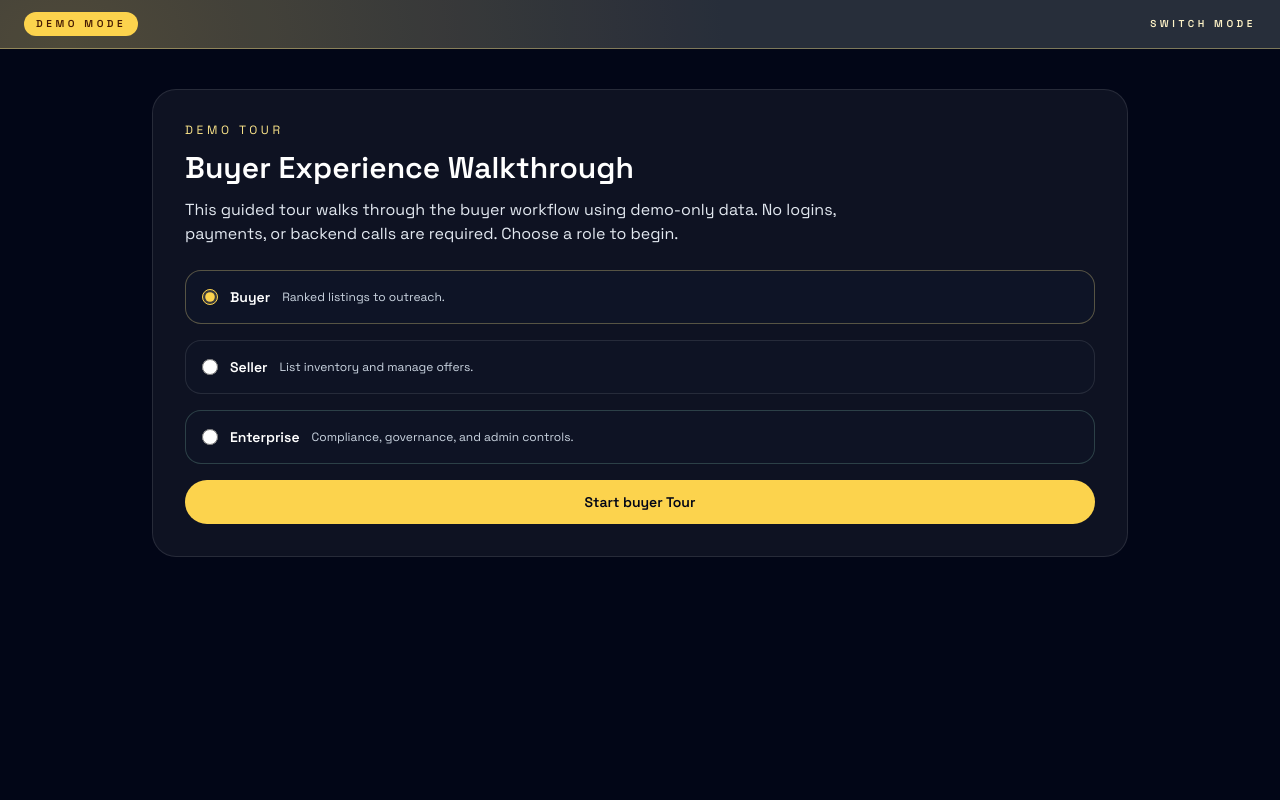
Test case: Demo experience › renders seller tour in read-only mode when demo runtime is enabled
Click the radio button labelled "Seller": (210, 367) [202, 359, 218, 375]
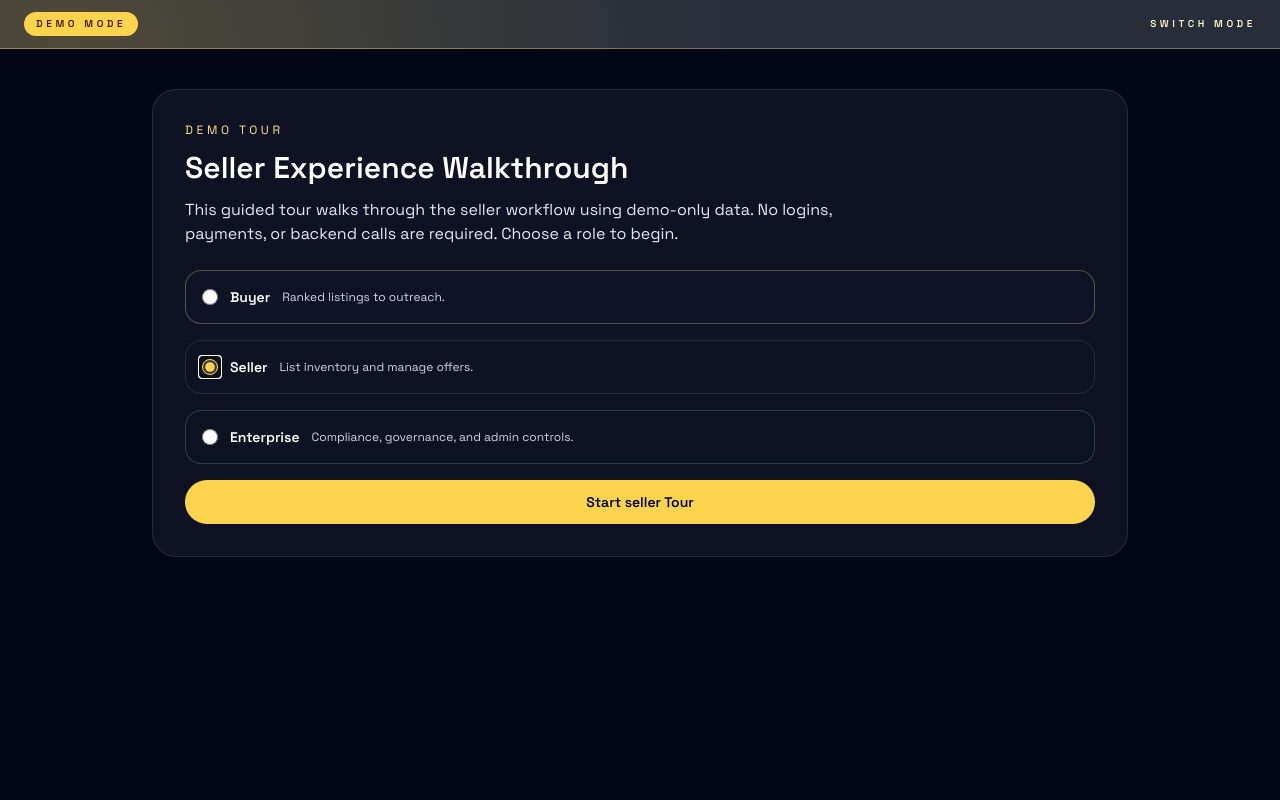
Click the button "Start seller Tour": (640, 502) [185, 480, 1095, 524]
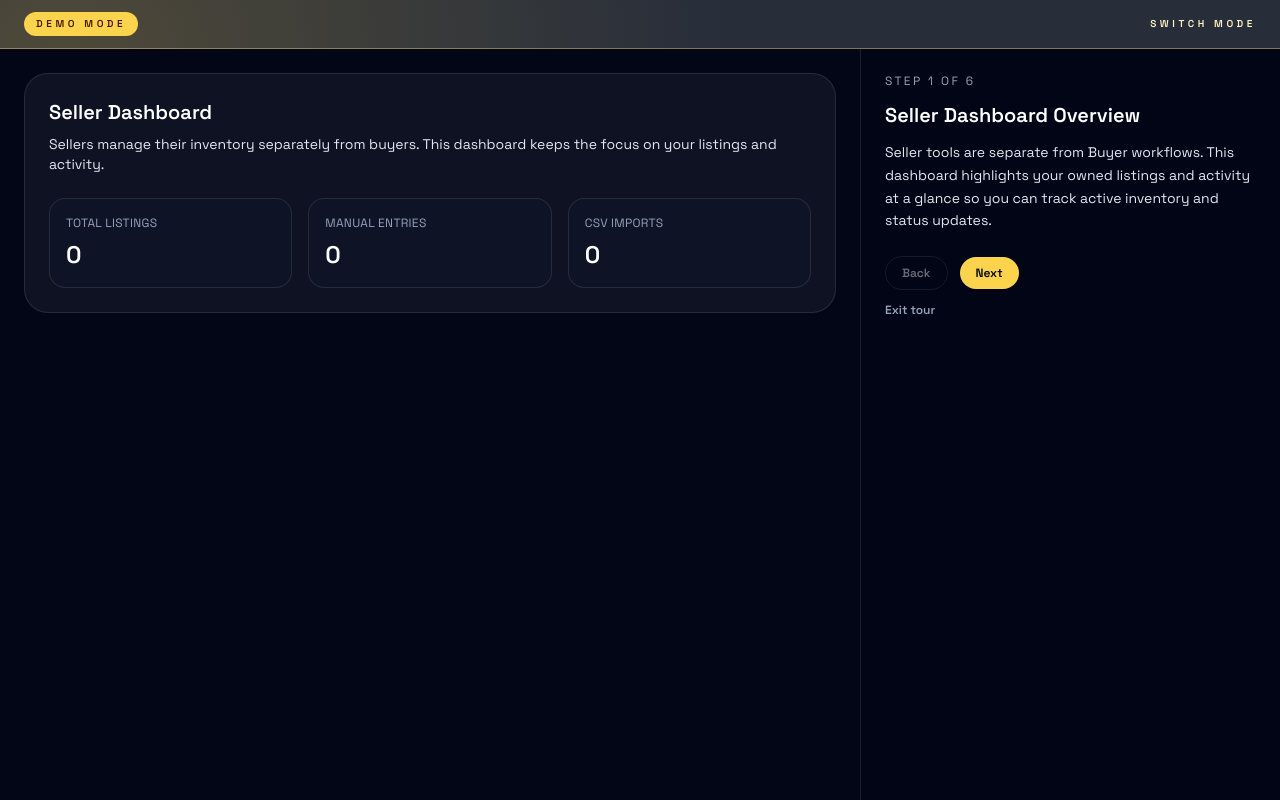
Click the button "Next": (989, 273) [960, 257, 1019, 289]
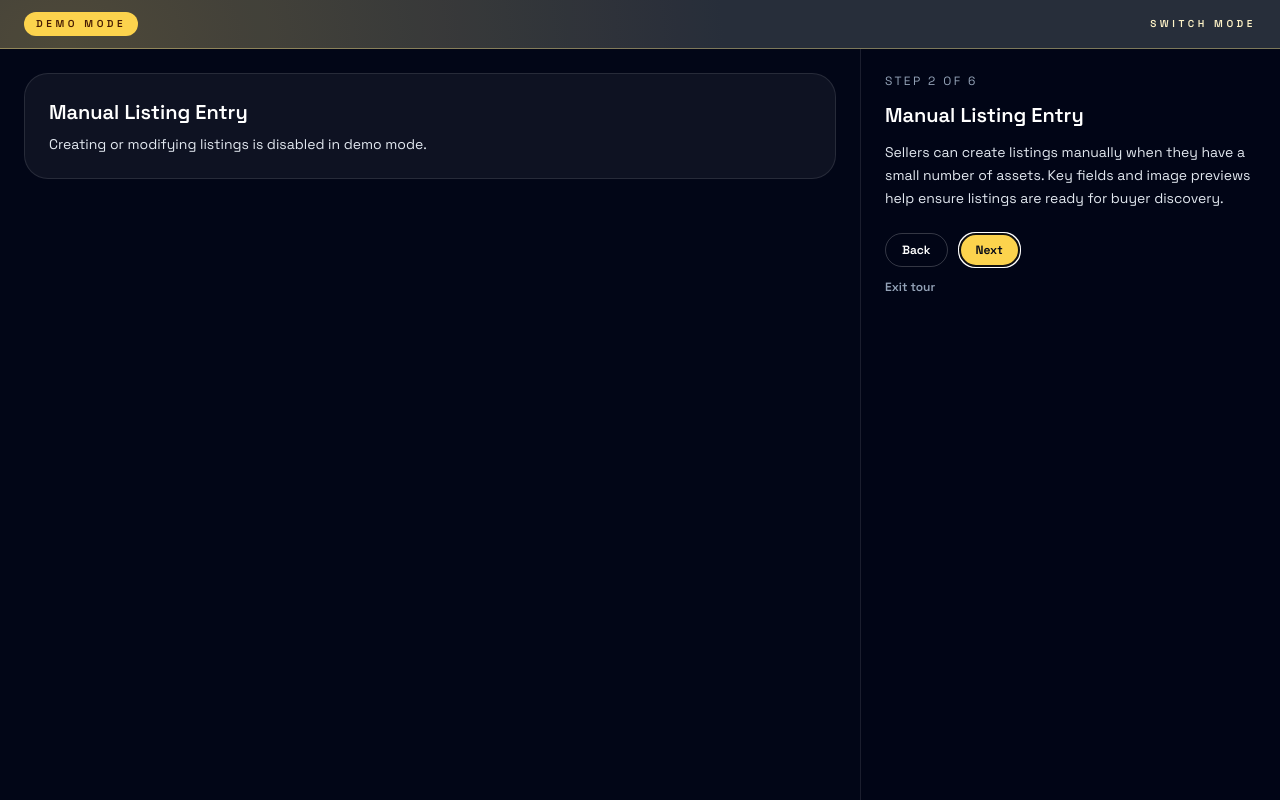
Expected: the text "Creating or modifying listings is disabled in demo mode." is shown, [49, 135, 427, 153]
Click the button "Next": (989, 250) [960, 234, 1019, 266]
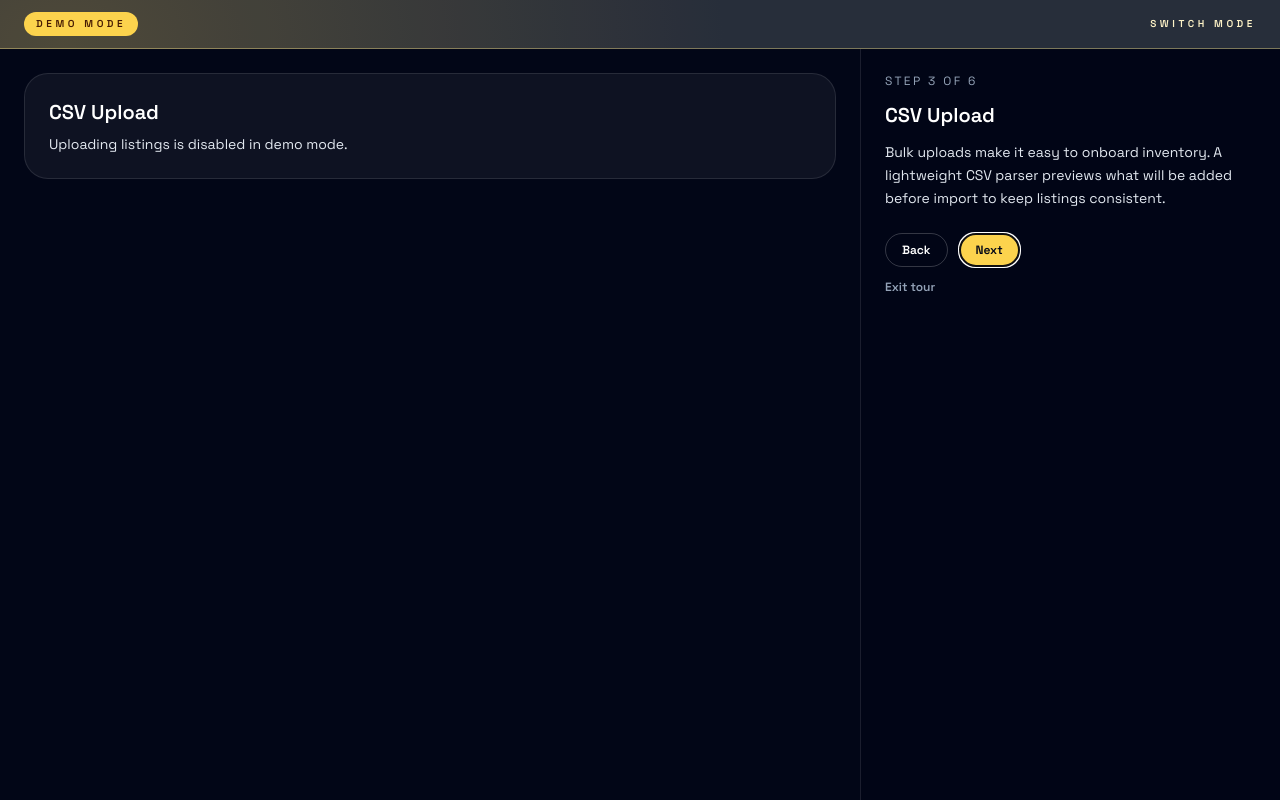
Expected: the text "Uploading listings is disabled in demo mode." is shown, [49, 135, 348, 153]
